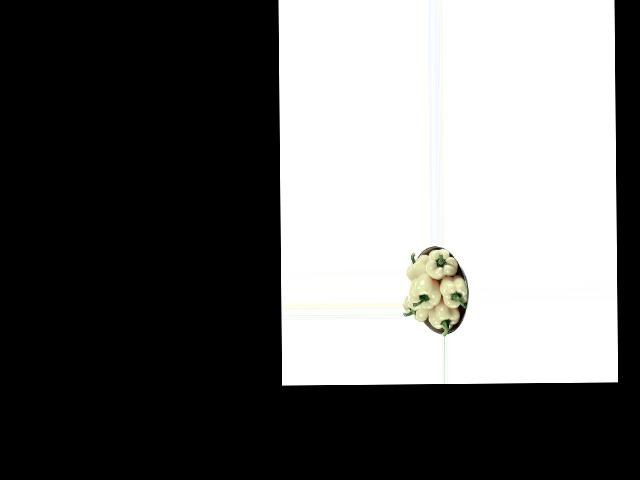bell_pepper: (403, 295, 431, 325)
